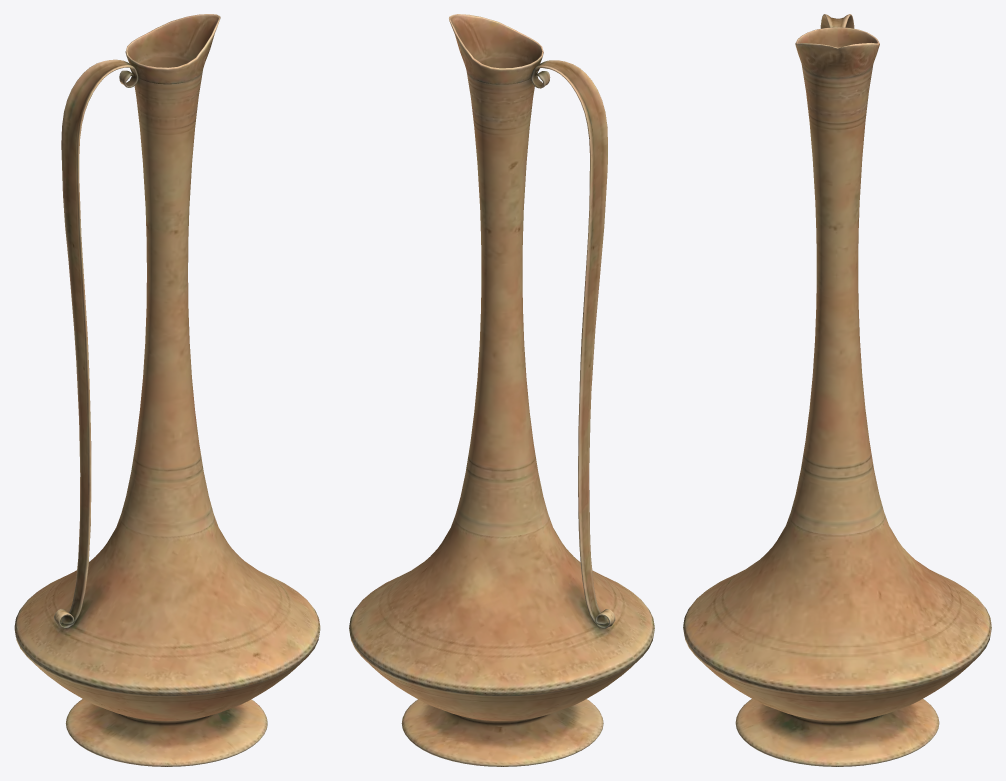
Rendered from brass_vase_02.glb.
3 renders of one model, left to right at view 1: azimuth 30°, elevation 25°; view 2: azimuth 150°, elevation 25°; view 3: azimuth 270°, elevation 25°, orthographic.
Visible parts, largest first — view 1: brass_vase_02; view 2: brass_vase_02; view 3: brass_vase_02.
Part boxes in pixels (<box>): brass_vase_02: <box>14,14,320,766</box>; brass_vase_02: <box>349,14,654,766</box>; brass_vase_02: <box>683,14,991,766</box>.
Bounding box in the file's own units: 0.2103 × 0.5286 × 0.2103.
1 material, 1 textured.
